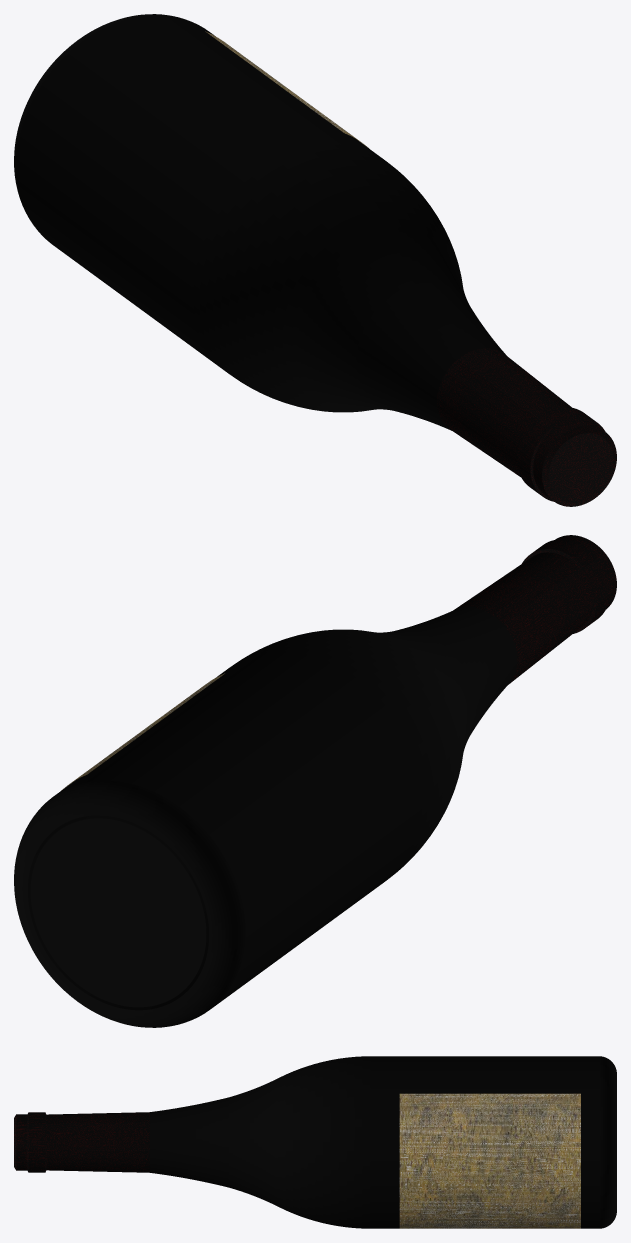
Rendered from model_scale.obj.
3 renders of one model, top to bottom at view 1: azimuth 30°, elevation 25°; view 2: azimuth 150°, elevation 25°; view 3: azimuth 270°, elevation 25°, orthographic. The views are drawn at different scales.
Visible parts, largest first — view 1: mesh1_mesh1-geometry; view 2: mesh1_mesh1-geometry, mesh2_mesh2-geometry; view 3: mesh1_mesh1-geometry, mesh77_mesh77-geometry.
Part boxes in pixels (x1=…): mesh1_mesh1-geometry: x1=14, y1=14, x2=616, y2=506; mesh1_mesh1-geometry: x1=14, y1=535, x2=616, y2=1027; mesh2_mesh2-geometry: x1=30, y1=818, x2=206, y2=1007; mesh1_mesh1-geometry: x1=14, y1=1056, x2=616, y2=1228; mesh77_mesh77-geometry: x1=399, y1=1093, x2=580, y2=1228.
Size of the model in its own units: 0.0427 by 0.0426 by 0.1489.
